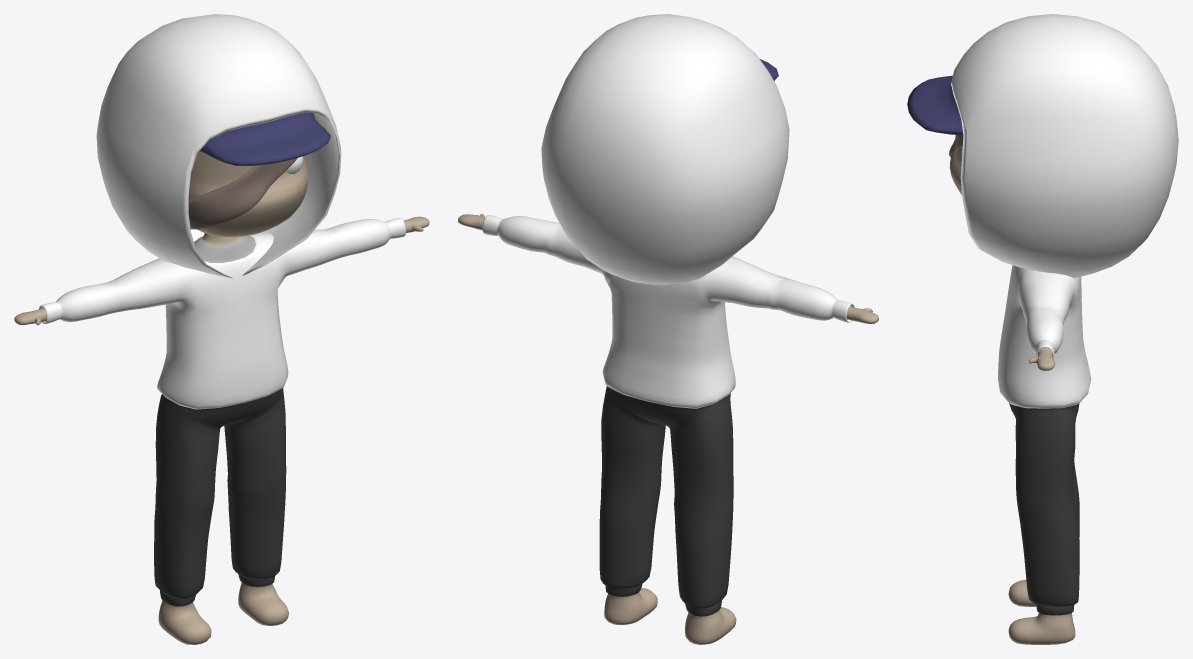
File: momie.fbx
The picture shows the model from 3 angles, left to right: view 1: azimuth 30°, elevation 25°; view 2: azimuth 150°, elevation 25°; view 3: azimuth 270°, elevation 25°; orthographic projection.
Visible parts, largest first — view 1: pasted__pCube19, pCube4, pCube1, pPlane1; view 2: pCube4, pasted__pCube19; view 3: pCube4, pasted__pCube19, pCube1.
Part boxes in pixels (x1,y1,x2,y2): pasted__pCube19: (14, 151, 429, 644); pCube4: (96, 14, 341, 278); pCube1: (199, 112, 330, 165); pPlane1: (188, 158, 297, 229); pCube4: (541, 14, 789, 284); pasted__pCube19: (458, 214, 878, 644); pCube4: (951, 14, 1178, 278); pasted__pCube19: (949, 147, 1091, 644); pCube1: (907, 75, 963, 135).
Bounding box in the file's own units: 4.11 × 5.66 × 2.34.
